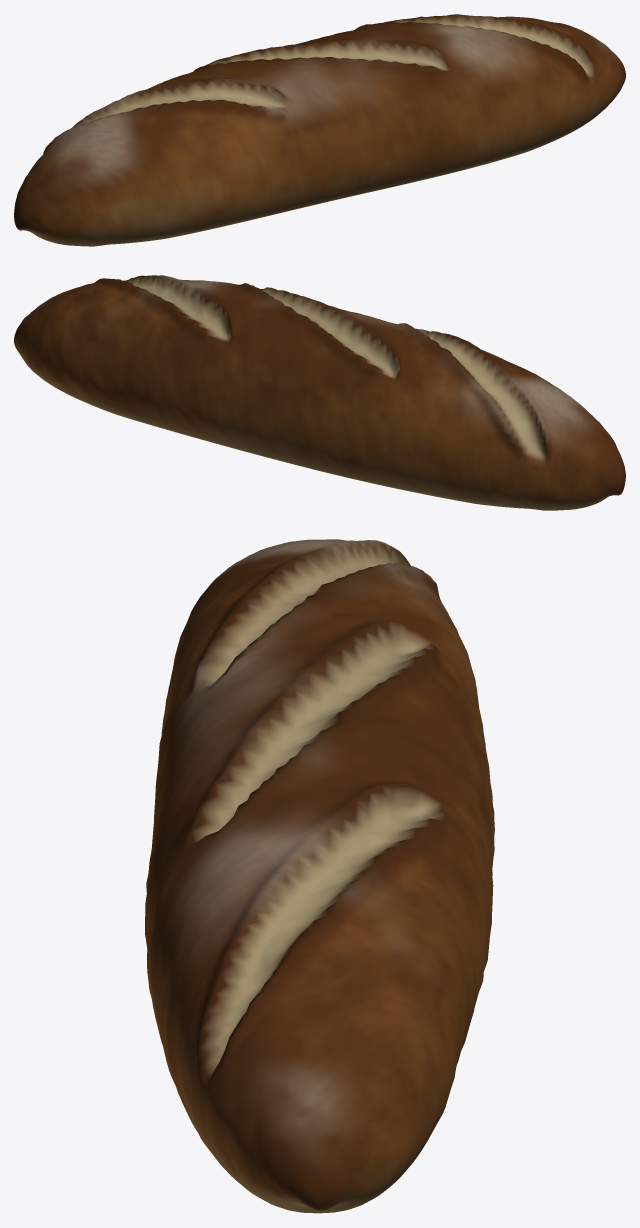
The model's file is roggenflit-klein.glb.
3 renders of one model, top to bottom at view 1: azimuth 30°, elevation 25°; view 2: azimuth 150°, elevation 25°; view 3: azimuth 270°, elevation 25°, orthographic. The views are drawn at different scales.
Visible parts, largest first — view 1: roggenflit-klein; view 2: roggenflit-klein; view 3: roggenflit-klein.
Part boxes in pixels (x1,y1,x2,y2): roggenflit-klein: (14,14,625,246); roggenflit-klein: (14,275,625,510); roggenflit-klein: (145,539,494,1213).
Bounding box in the file's own units: 0.3 × 0.06 × 0.075.
